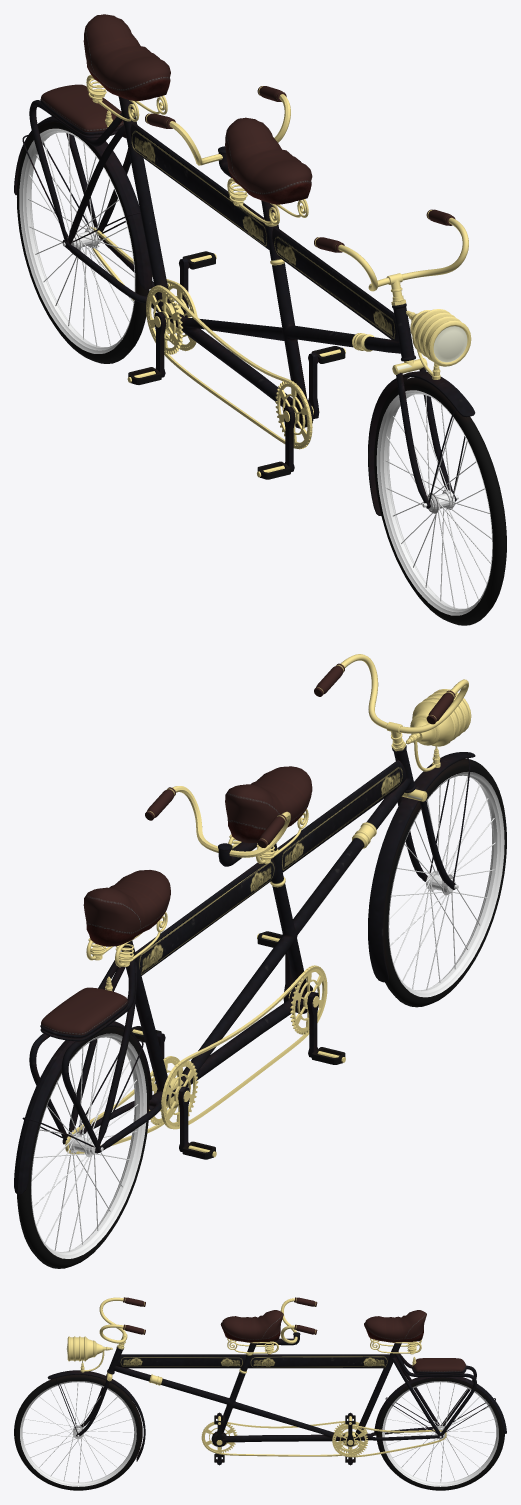
The model's file is tandem_bicycle.glb.
3 renders of one model, top to bottom at view 1: azimuth 30°, elevation 25°; view 2: azimuth 150°, elevation 25°; view 3: azimuth 270°, elevation 25°, orthographic. The views are drawn at different scales.
Visible parts, largest first — view 1: Cylinder, Cylinder.001, seat, seat.001, tyre_rear_low, Cylinder.004, Cylinder.007, Cylinder.008, Cylinder.002, Cylinder.035, Cylinder.024, Cylinder.009 (+10 smaller); view 2: Cylinder, Cylinder.001, seat.001, seat, Cylinder.006, Cylinder.004, Cylinder.007, tyre_rear_low, Cylinder.008, Cylinder.035, Cylinder.009, Cube.002 (+11 smaller); view 3: Cylinder, Cylinder.001, tyre_rear_low, Cylinder.008, seat, seat.001, Cylinder.035, Cylinder.004, Cylinder.007, Cylinder.024, NurbsPath.002, Cylinder.002 (+17 smaller).
Boxes of the visible parts, box(x1,y1,x2,y2) form: Cylinder: box(118, 96, 415, 420); Cylinder.001: box(130, 122, 398, 342); seat: box(225, 117, 312, 204); seat.001: box(83, 14, 170, 101); tyre_rear_low: box(374, 377, 506, 625); Cylinder.004: box(376, 390, 492, 615); Cylinder.007: box(19, 128, 135, 353); Cylinder.008: box(17, 122, 149, 363); Cylinder.002: box(410, 309, 471, 366); Cylinder.035: box(385, 394, 491, 608); Cylinder.024: box(28, 131, 134, 346); Cylinder.009: box(14, 116, 152, 289); Cylinder: box(121, 745, 416, 1109); Cylinder.001: box(135, 760, 406, 975); seat.001: box(83, 870, 170, 946); seat: box(225, 766, 312, 843); Cylinder.006: box(368, 752, 475, 982); Cylinder.004: box(388, 771, 504, 997); Cylinder.007: box(31, 1033, 146, 1258); tyre_rear_low: box(383, 759, 506, 1007); Cylinder.008: box(17, 1026, 149, 1268); Cylinder.035: box(389, 776, 495, 989); Cylinder.009: box(14, 1021, 152, 1194); Cube.002: box(41, 987, 127, 1035); Cylinder: box(107, 1332, 401, 1442); Cylinder.001: box(116, 1354, 389, 1368); tyre_rear_low: box(14, 1374, 142, 1490); Cylinder.008: box(376, 1377, 504, 1490); seat: box(220, 1310, 283, 1342); seat.001: box(364, 1310, 426, 1342); Cylinder.035: box(22, 1382, 133, 1482); Cylinder.004: box(20, 1381, 136, 1486); Cylinder.007: box(382, 1381, 498, 1486); Cylinder.024: box(385, 1382, 495, 1482); NurbsPath.002: box(394, 1351, 476, 1435); Cylinder.002: box(66, 1336, 102, 1361).
Bounding box in the file's own units: 1.22 × 3.35 × 8.33.
Materials: 1 (1 with a texture image).
